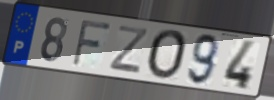4: (222, 39, 259, 91)
8: (38, 16, 69, 64)
9: (186, 32, 222, 88)
F: (70, 18, 114, 69)
O: (145, 28, 190, 83)
Z: (107, 23, 150, 76)
